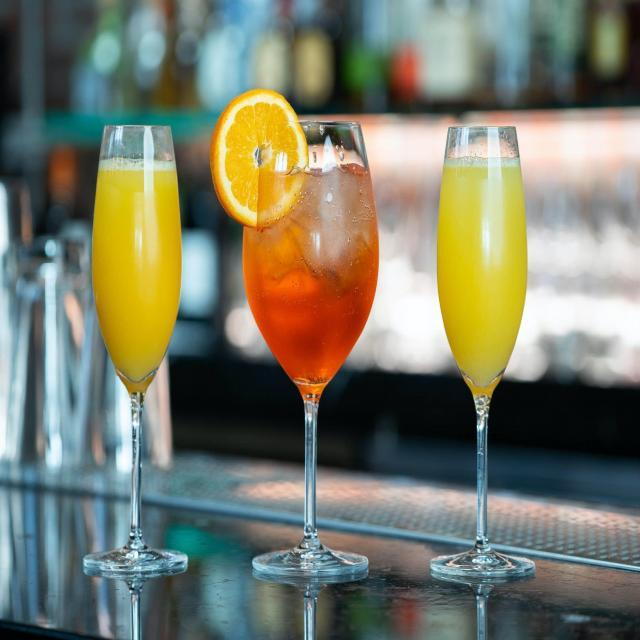glass-wine: (241, 110, 380, 594), (430, 112, 533, 603), (83, 116, 187, 584)
